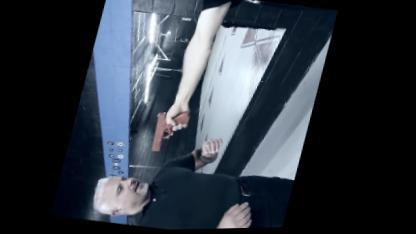pistol: (150, 106, 194, 156)
